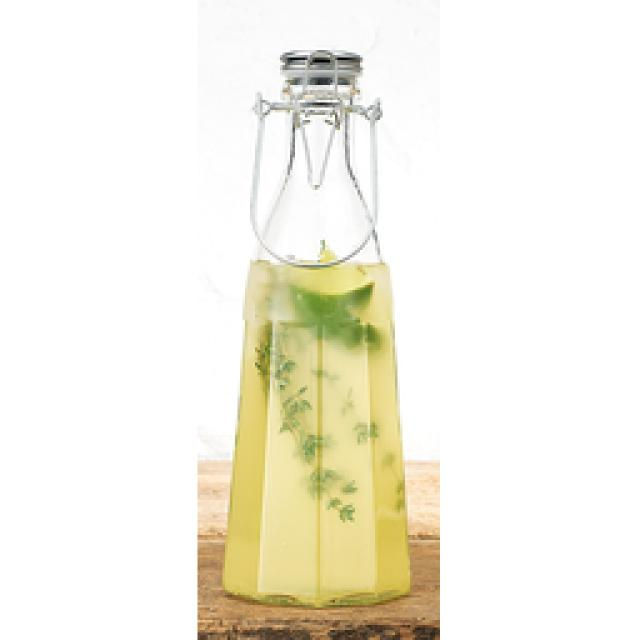glass_beverage_bottles: (236, 50, 412, 603)
